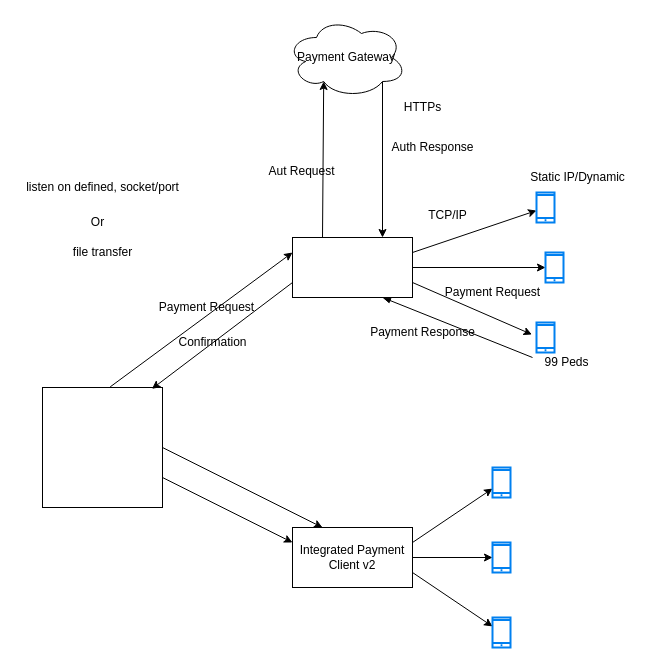
The diagram is 649 pixels wide and 666 high, and some of its shapes have lost their labels. Each missing label, with the centre of its shape:
Integrated Payment Client v1: pixel 352 267
SAP ECC: pixel 102 447
